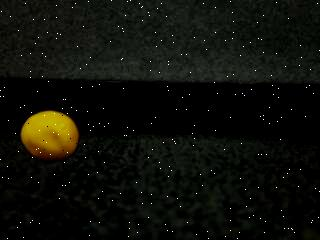Lemon: (21, 110, 82, 163)
